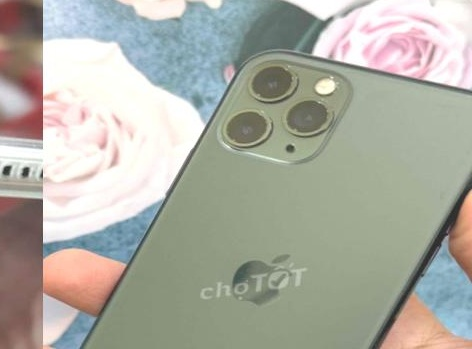scratch: (215, 51, 346, 153)
